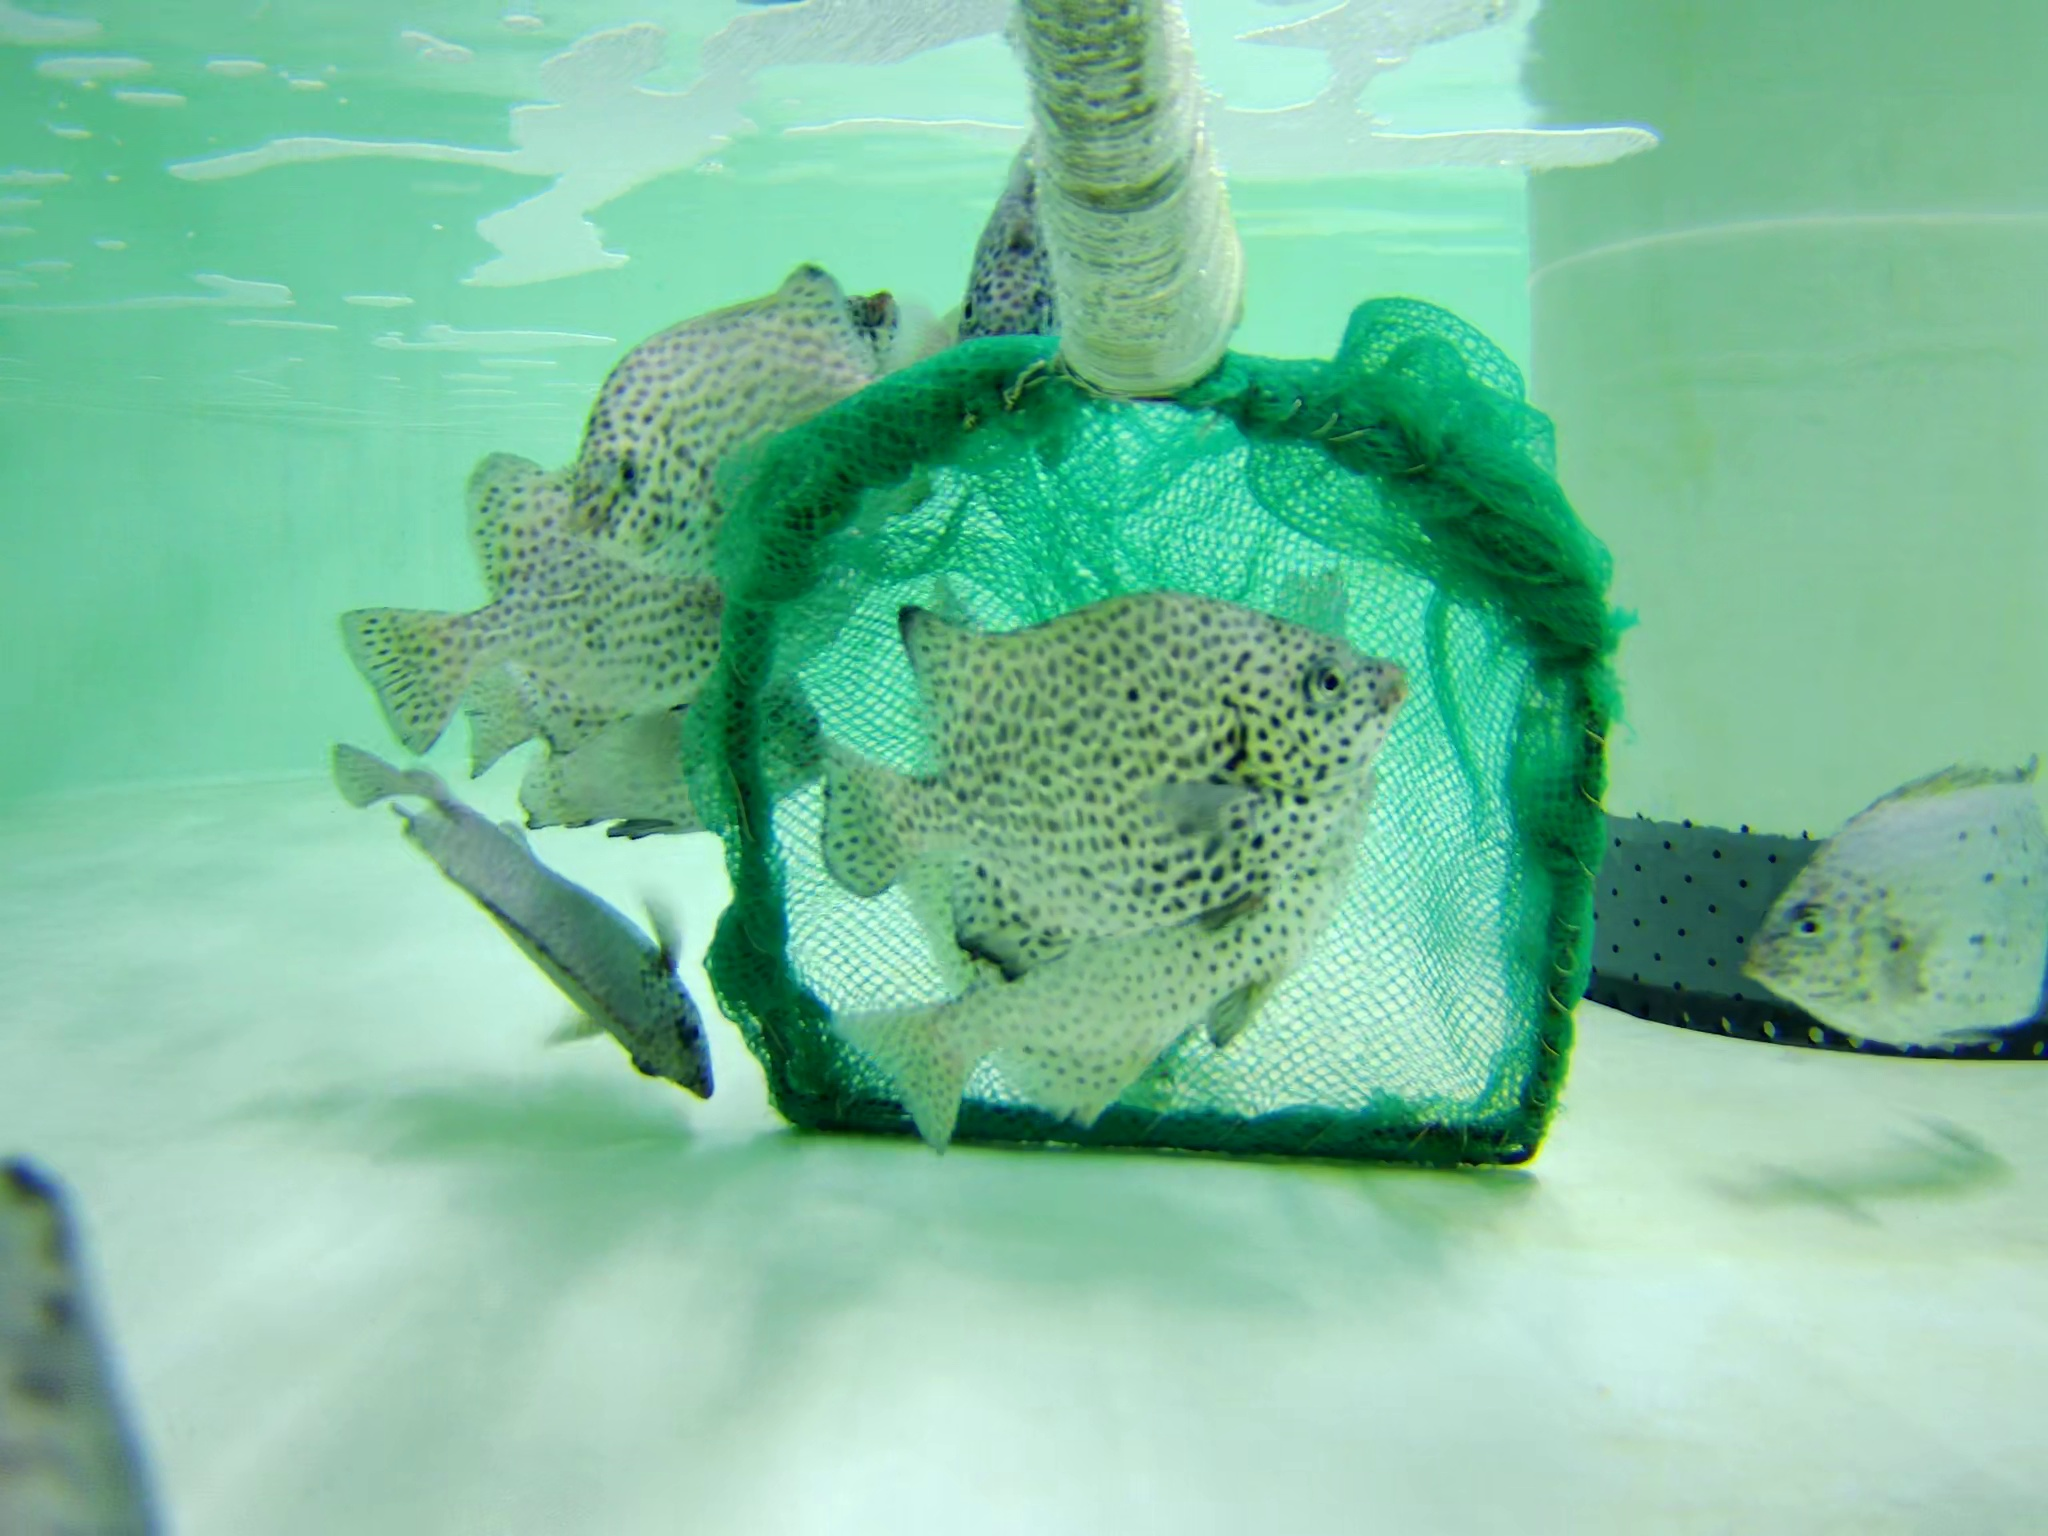fish: (768, 597, 1405, 910), (843, 766, 1387, 1115), (337, 747, 731, 1099), (329, 449, 798, 715), (566, 269, 898, 555), (1742, 753, 2048, 1058), (2, 1150, 169, 1536), (477, 660, 839, 829), (947, 126, 1079, 376)
